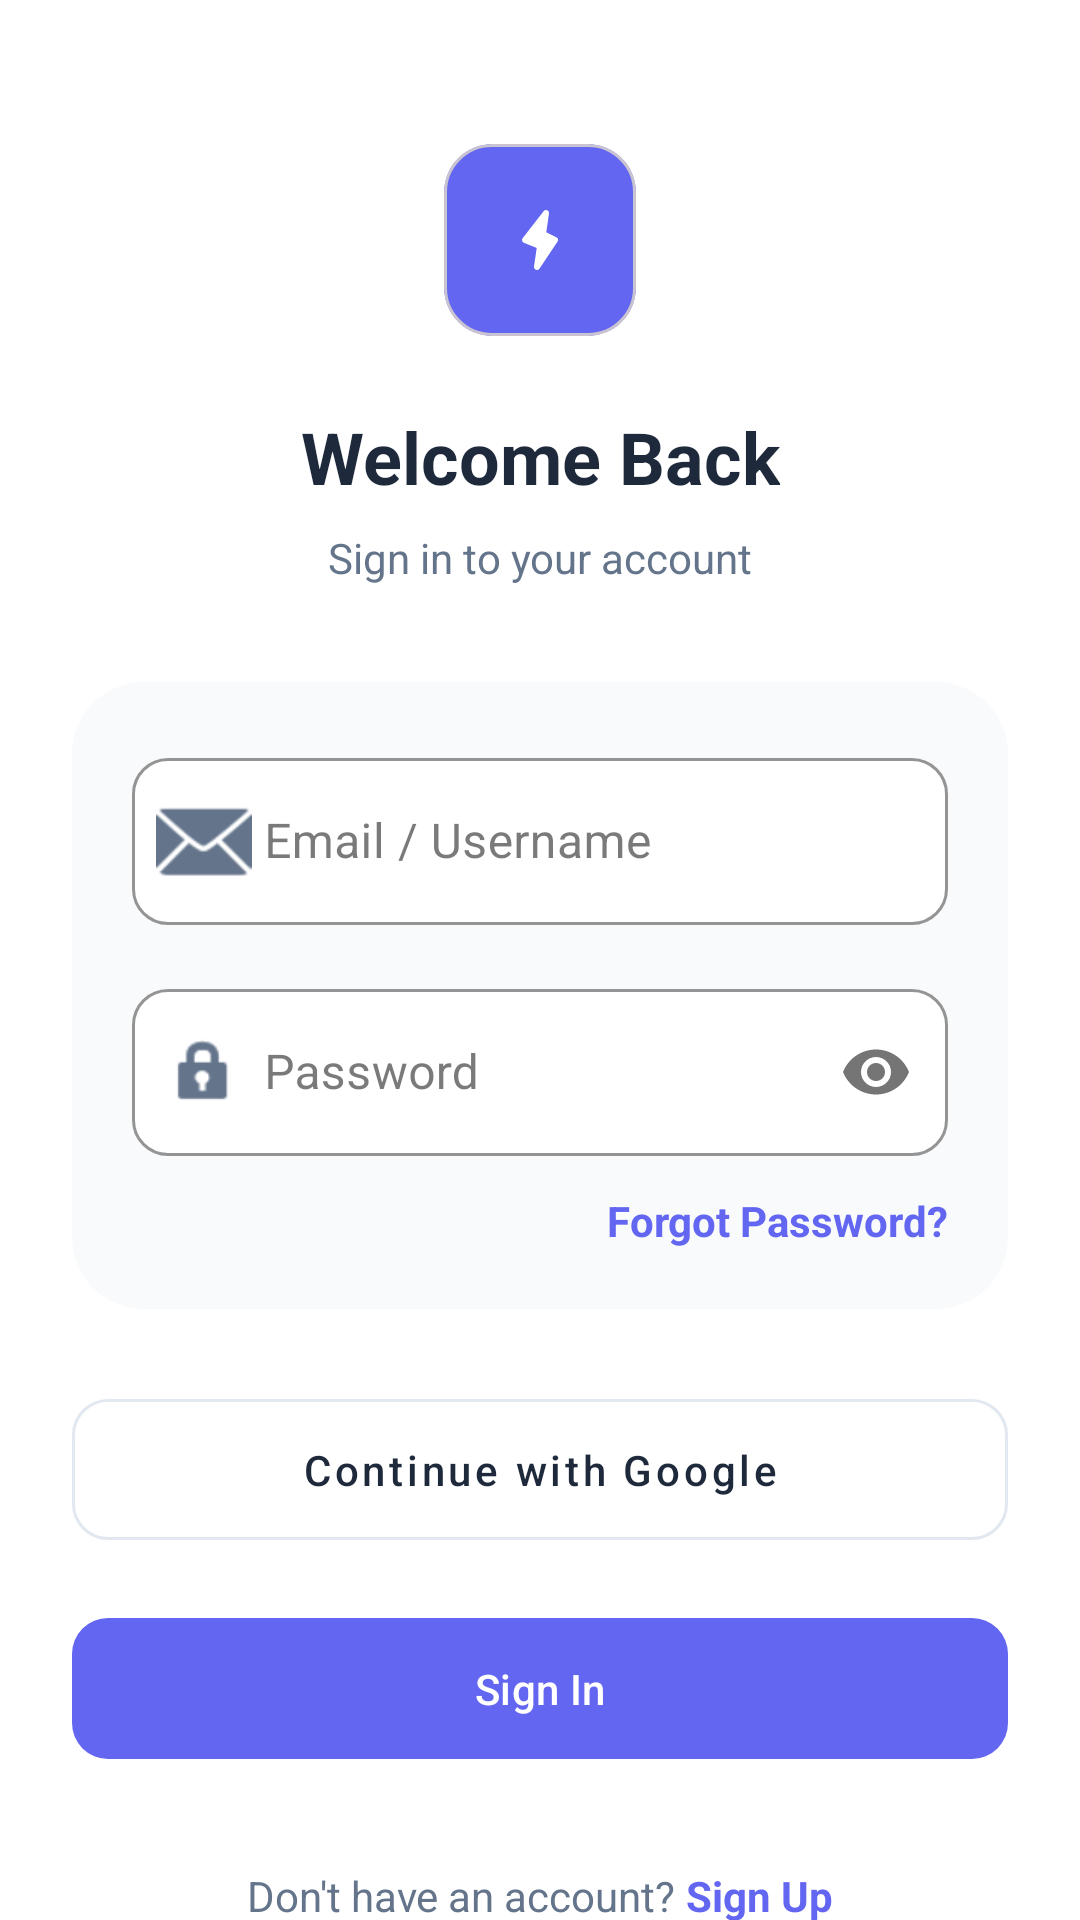

Icon bounding boxes for this 1080px x 1920px phone screenshot, format (x1, y1, x2, y2):
lightning: (444, 144, 636, 336)
